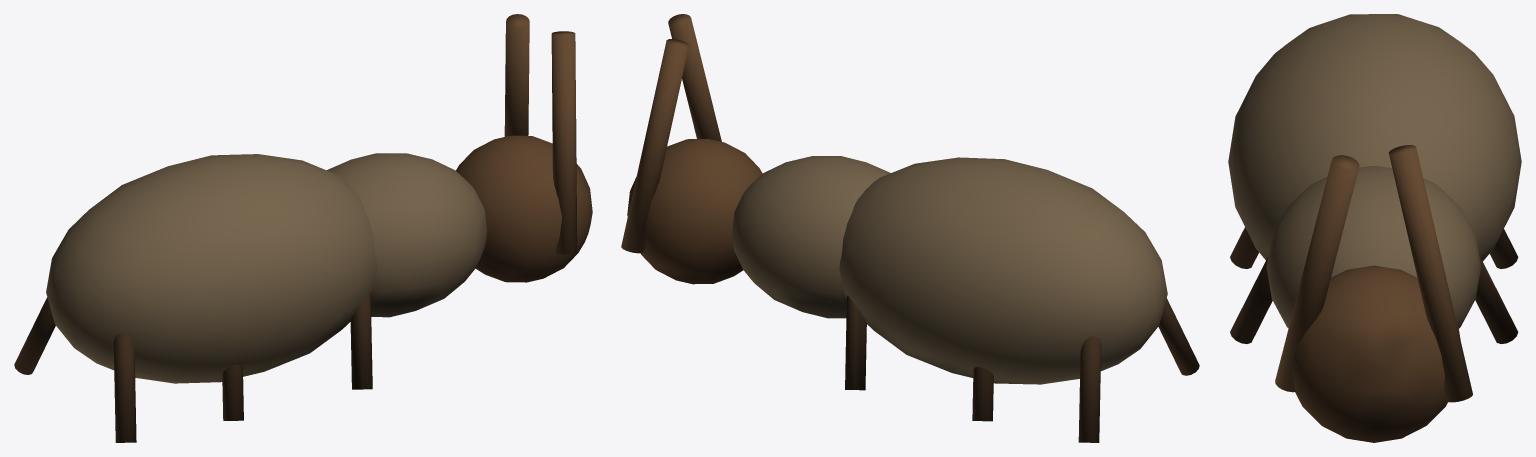
The model's file is termite-corpse.obj.
3 renders of one model, left to right at view 1: azimuth 30°, elevation 25°; view 2: azimuth 150°, elevation 25°; view 3: azimuth 270°, elevation 25°, orthographic. The views are drawn at different scales.
Parts seen in each view (by area): view 1: termite-corpse; view 2: termite-corpse; view 3: termite-corpse.
Boxes of the visible parts, x1,y1,x2,y2 form: termite-corpse: [14, 14, 592, 442]; termite-corpse: [621, 14, 1199, 442]; termite-corpse: [1228, 14, 1521, 442].
Size of the model in its own units: 0.4084 by 0.201 by 0.1653.
